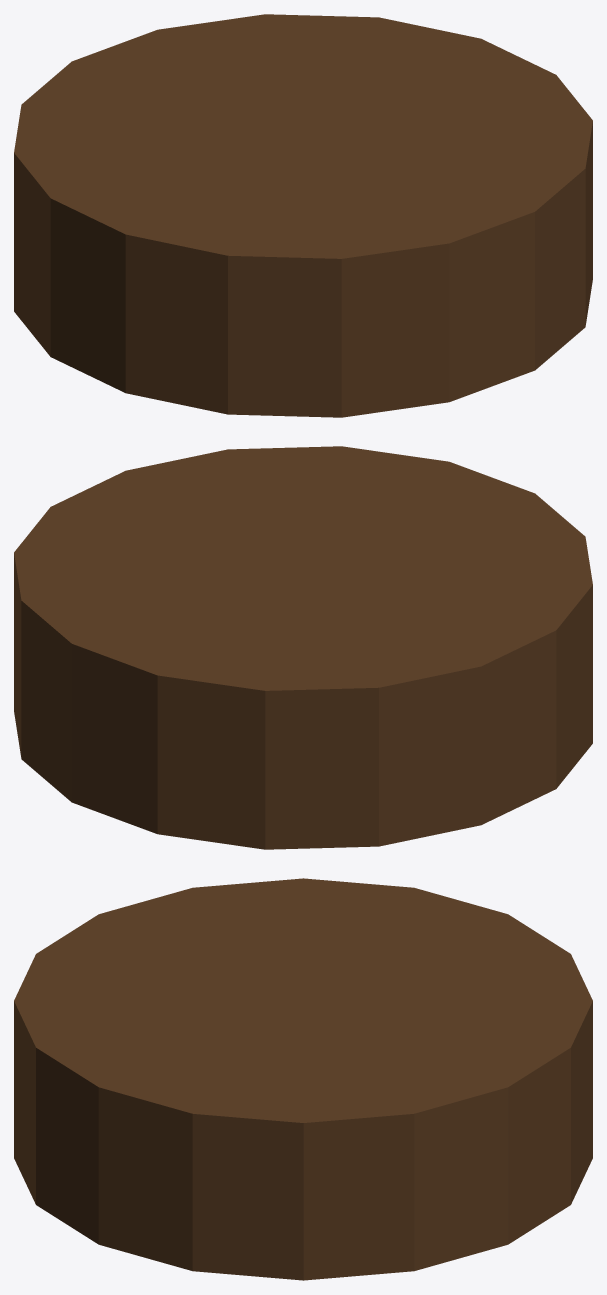
Rendered from marker.glb.
The picture shows the model from 3 angles, top to bottom: view 1: azimuth 30°, elevation 25°; view 2: azimuth 150°, elevation 25°; view 3: azimuth 270°, elevation 25°; orthographic projection.
Parts seen in each view (by area): view 1: marker; view 2: marker; view 3: marker.
Boxes of the visible parts, x1=… form: marker: x1=14, y1=14, x2=592, y2=417; marker: x1=14, y1=446, x2=592, y2=849; marker: x1=14, y1=878, x2=592, y2=1280.
Size of the model in its own units: 0.005 by 0.0015 by 0.005.
